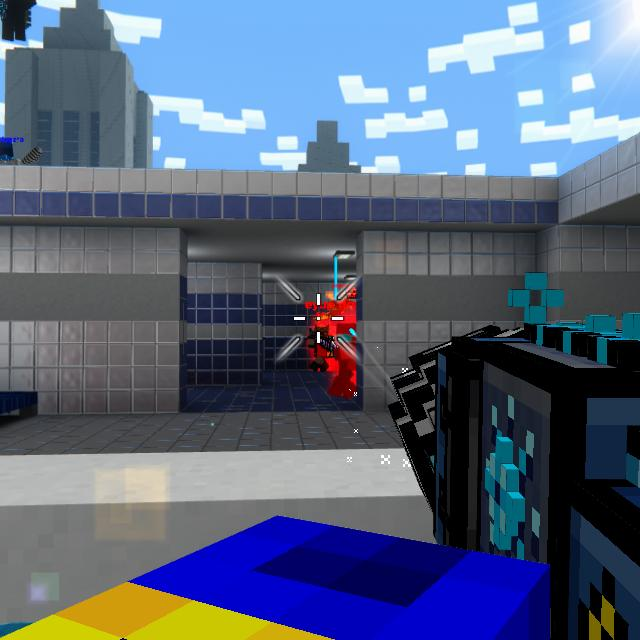Enemy: (337, 323, 358, 399), (306, 324, 334, 373)
